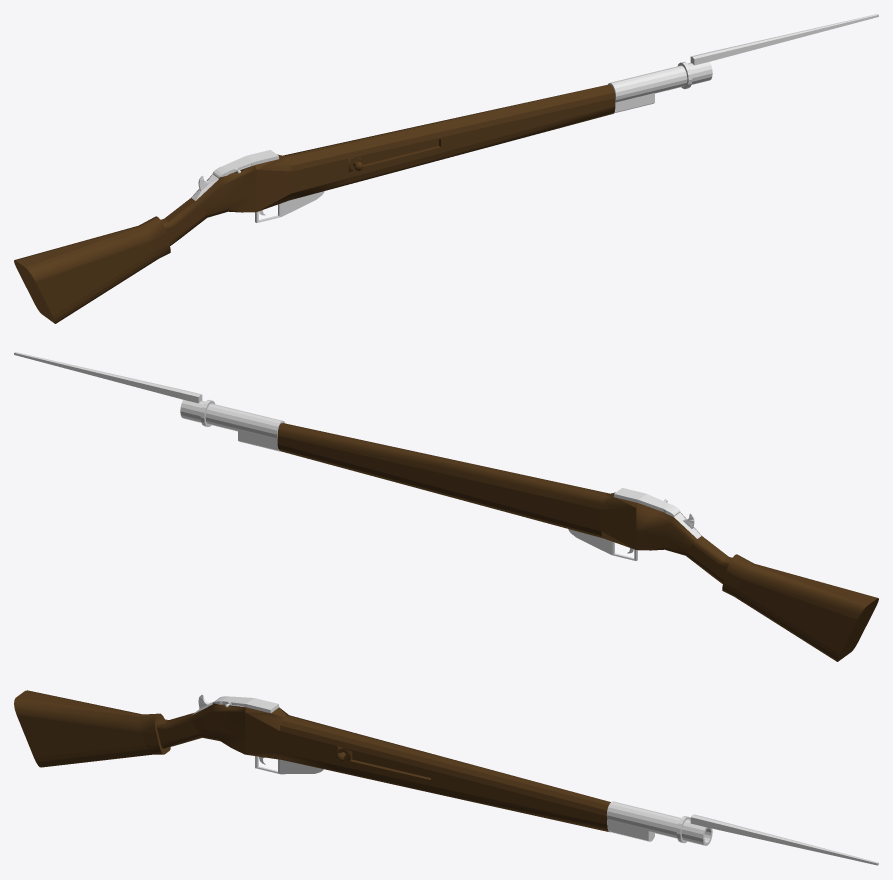
File: arquebus.glb
3 views of the same model, one above another, from view 1: azimuth 30°, elevation 25°; view 2: azimuth 150°, elevation 25°; view 3: azimuth 330°, elevation 25° (orthographic).
Parts seen in each view (by area): view 1: Cube.001; view 2: Cube.001; view 3: Cube.001.
Part boxes in pixels (bbox=[...]): Cube.001: bbox=[14, 14, 878, 323]; Cube.001: bbox=[14, 352, 878, 661]; Cube.001: bbox=[14, 690, 878, 865].
Bounding box in the file's own units: 1.51 × 0.1865 × 0.0625.
